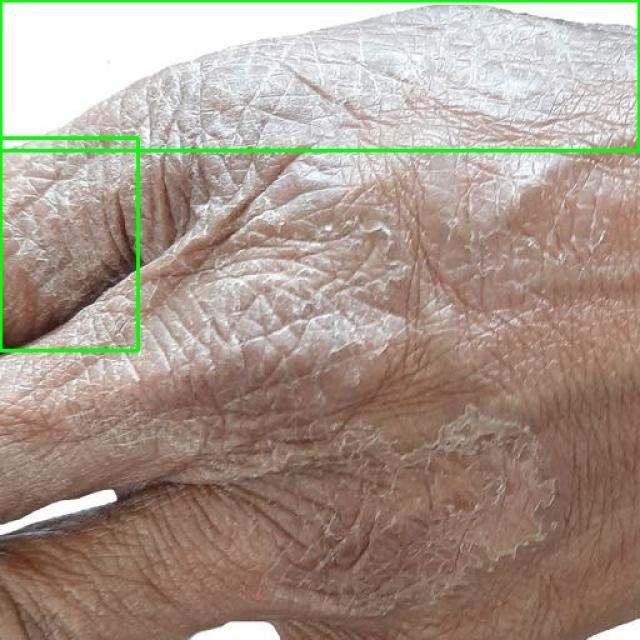Contact Dermatitis: (0, 0, 639, 150), (0, 138, 138, 350)
